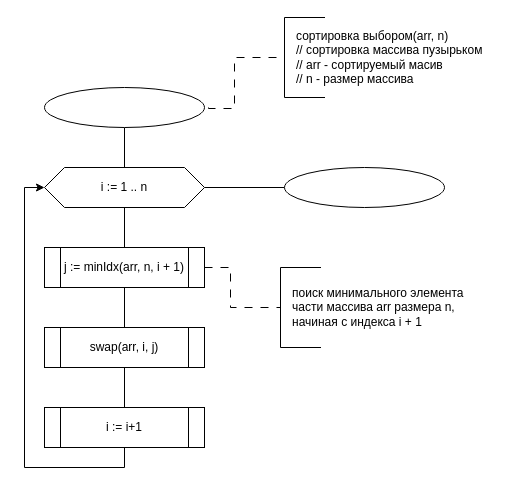
Some shapes in this 522 by 493 pixel diagram are drawn without their labels. Here are the shapes that lost their labels. From the top down, the box of each, then its label:
(44, 86, 204, 128): начало
(284, 166, 444, 208): конец
